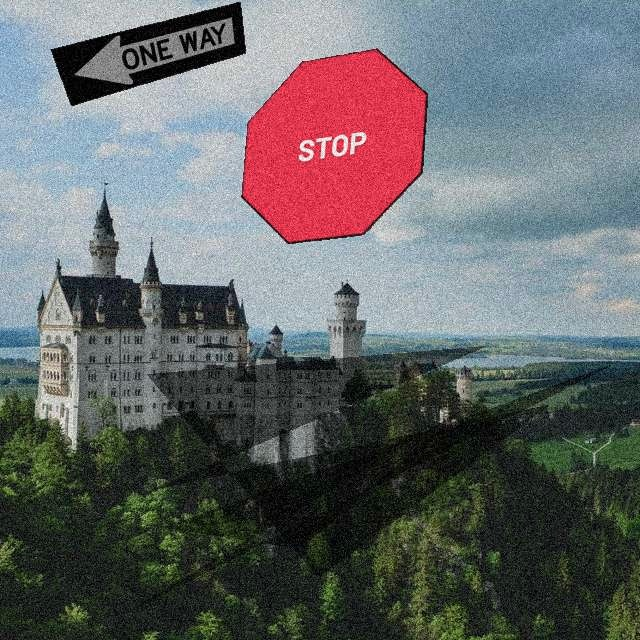ONE_WAY_ left: (50, 1, 246, 106)
STOP: (241, 48, 428, 244)
